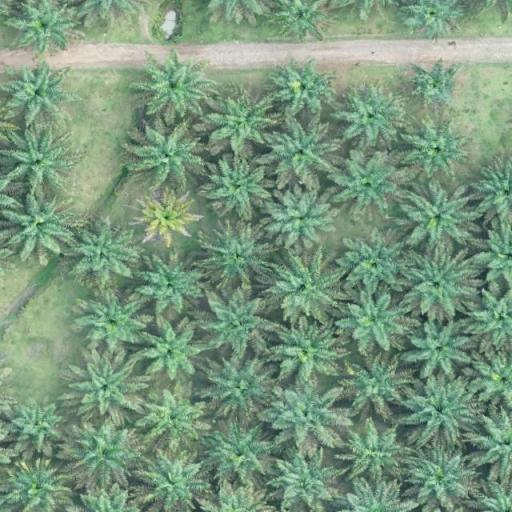Ganoderma: (142, 196, 192, 240)
